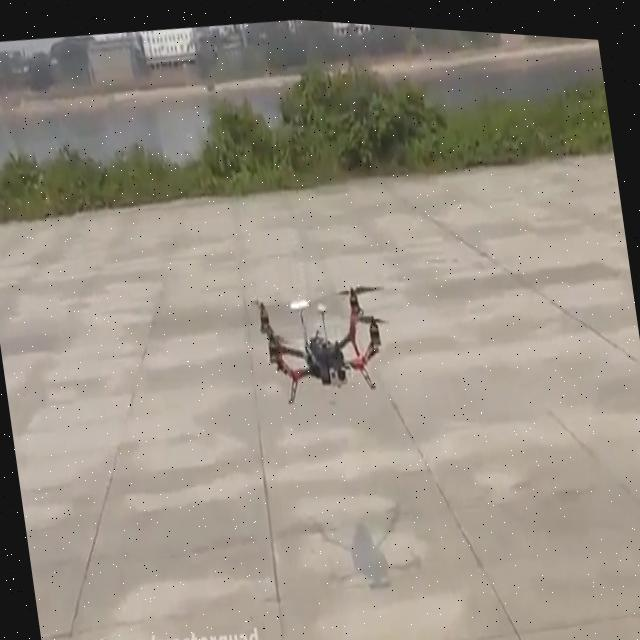drone: (243, 259, 402, 416)
